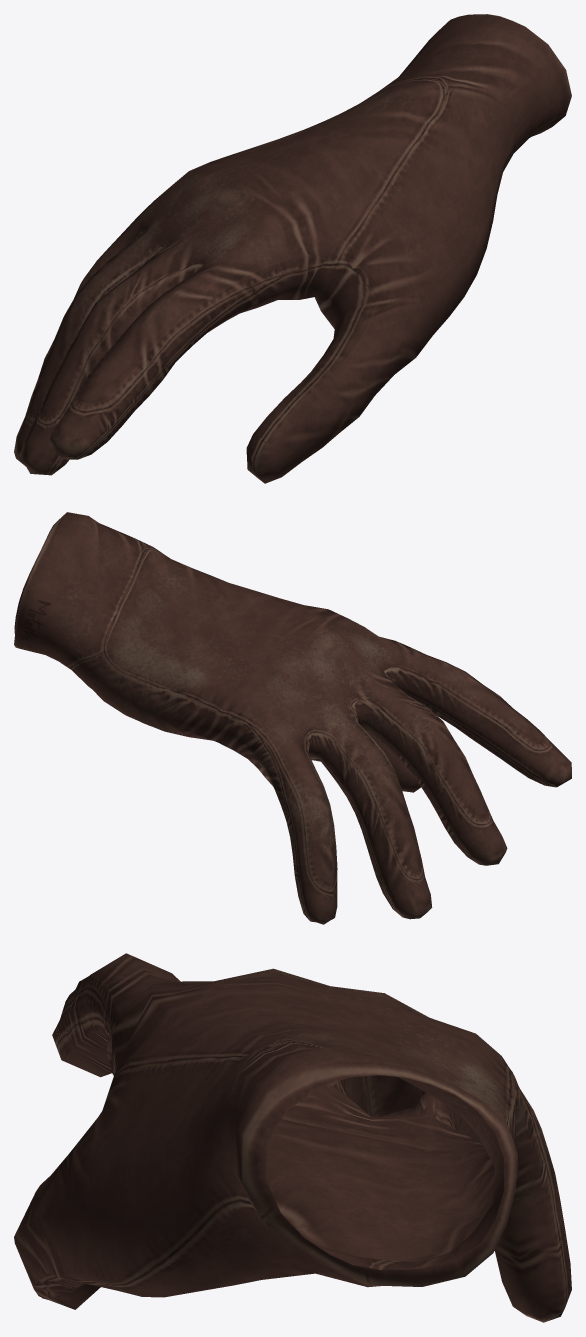
Rendered from antique_leather_glove.glb.
The picture shows the model from 3 angles, top to bottom: view 1: azimuth 30°, elevation 25°; view 2: azimuth 150°, elevation 25°; view 3: azimuth 270°, elevation 25°; orthographic projection. The views are drawn at different scales.
Visible parts, largest first — view 1: glove_L_2; view 2: glove_L_2; view 3: glove_L_2.
Part boxes in pixels (x1,y1,x2,y2): glove_L_2: [14, 14, 571, 483]; glove_L_2: [14, 512, 571, 924]; glove_L_2: [14, 953, 571, 1322].
Bounding box in the file's own units: 1.8 × 1.08 × 0.9864.
Materials: 1 (1 with a texture image).
